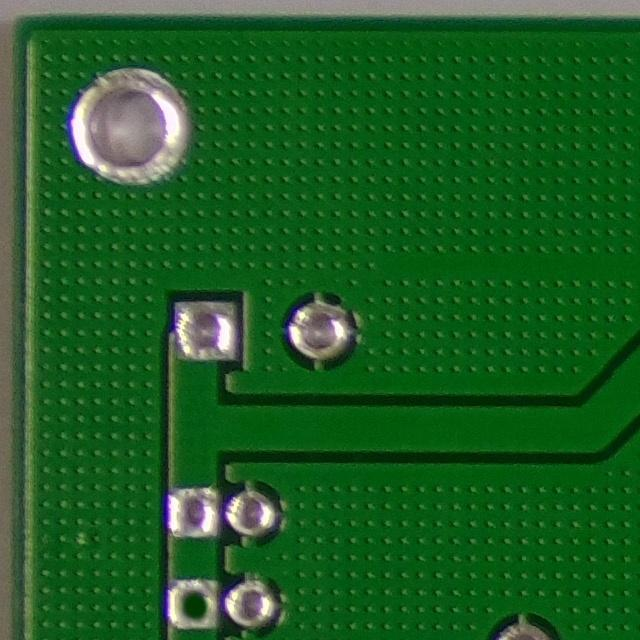missing_hole: (168, 572, 228, 638)
